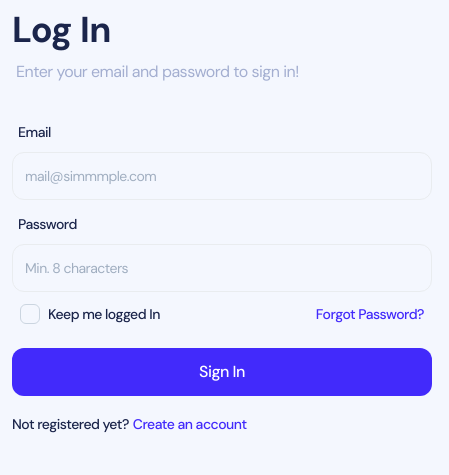
Test: handles failed sign-in
Provide valid input
Type "user1@example.com" into the field labelled "Email" at [222, 176], box [12,152,432,200]
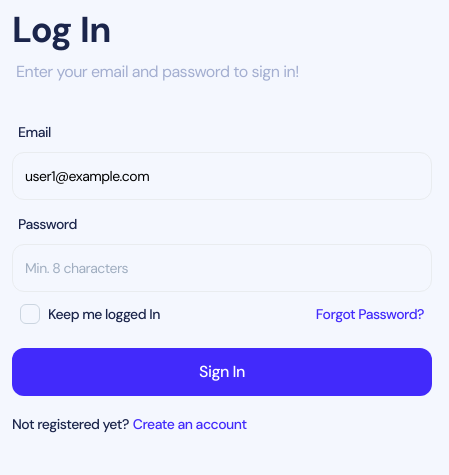
Type "password123" into the password field labelled "Password" at [222, 268], box [12,244,432,292]
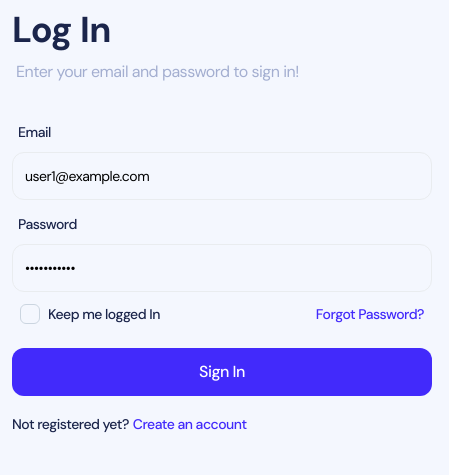
Perform the sign-in action
Click the button "Sign In" at [222, 372], box [12,348,432,396]
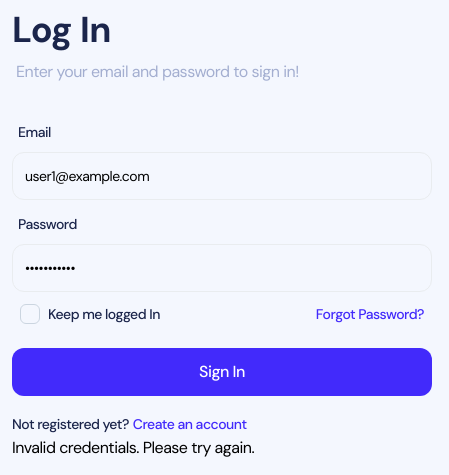
Expected: the text "Invalid credentials. Please try again." is shown, [12,437,254,458]
